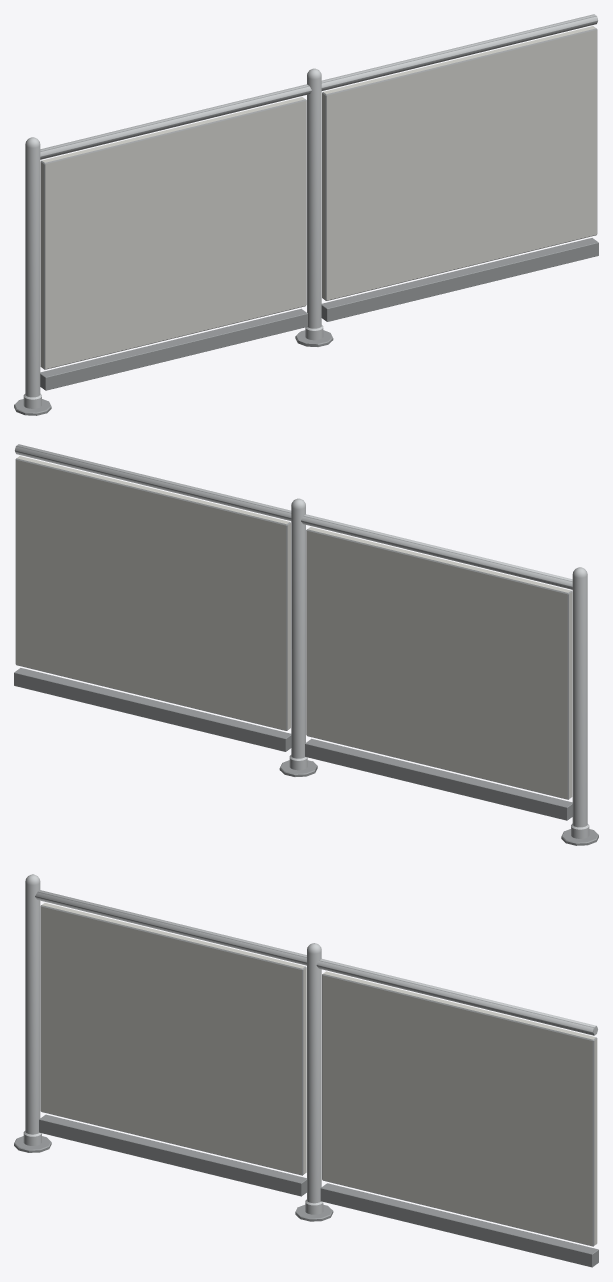
The model's file is gteki_barrier_rail_2400_solid.glb.
3 views of the same model, one above another, from view 1: azimuth 30°, elevation 25°; view 2: azimuth 150°, elevation 25°; view 3: azimuth 330°, elevation 25° (orthographic).
Visible parts, largest first — view 1: VIS_body; view 2: VIS_body; view 3: VIS_body.
Boxes of the visible parts, x1,y1,x2,y2 form: VIS_body: (14, 14, 598, 415); VIS_body: (14, 444, 598, 845); VIS_body: (14, 874, 598, 1267).
Size of what is drawn, in the model's own units: 2.47 by 1.1 by 0.1331.
Materials: 1 (1 with a texture image).
